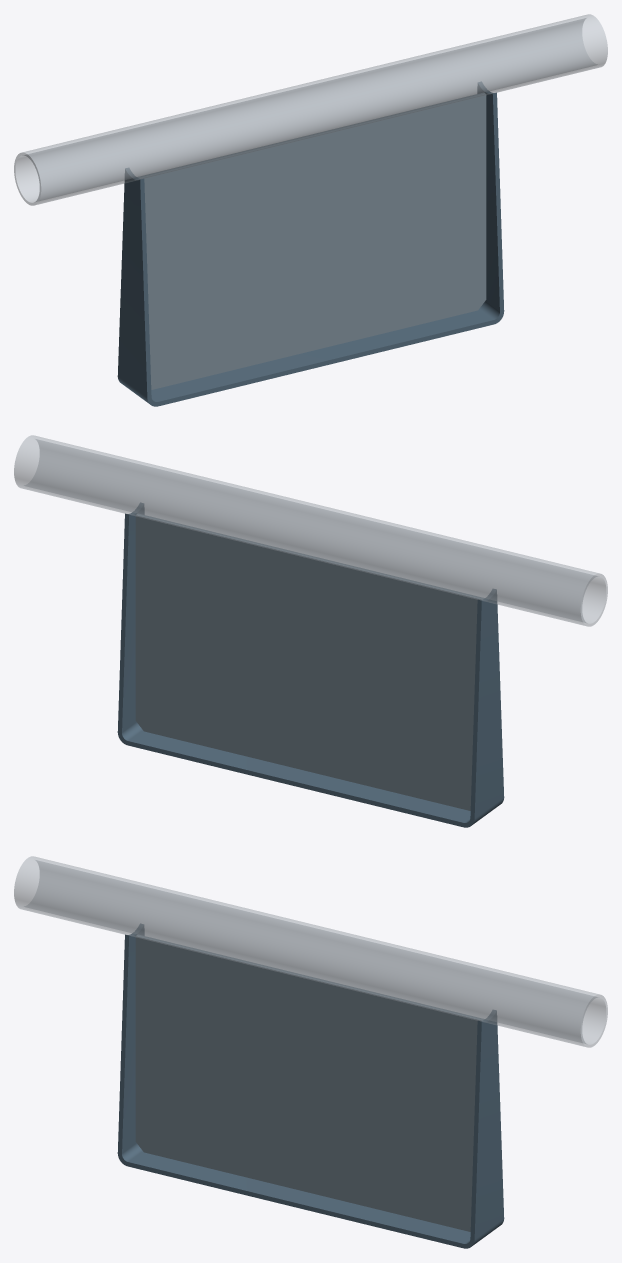
The model's file is TS-623.000-14-opora-dn45-H200-L340.glb.
3 views of the same model, one above another, from view 1: azimuth 30°, elevation 25°; view 2: azimuth 150°, elevation 25°; view 3: azimuth 330°, elevation 25° (orthographic).
Parts seen in each view (by area): view 1: rebro, truba, skoba; view 2: rebro, truba, skoba; view 3: rebro, truba, skoba.
Part boxes in pixels (x1,y1,x2,y2): rebro: (137,93,486,389); truba: (14,14,607,205); skoba: (117,82,504,406); rebro: (135,514,484,810); truba: (14,435,607,626); skoba: (117,503,504,827); rebro: (135,935,484,1231); truba: (14,856,607,1047); skoba: (117,924,504,1248).
Size of the model in its own units: 540 by 245 by 50.
